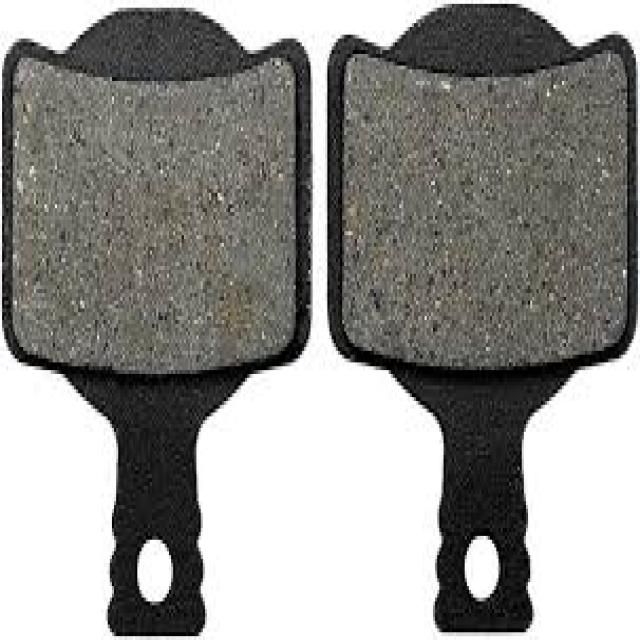brake_pad: (319, 6, 636, 636), (0, 0, 312, 640)
